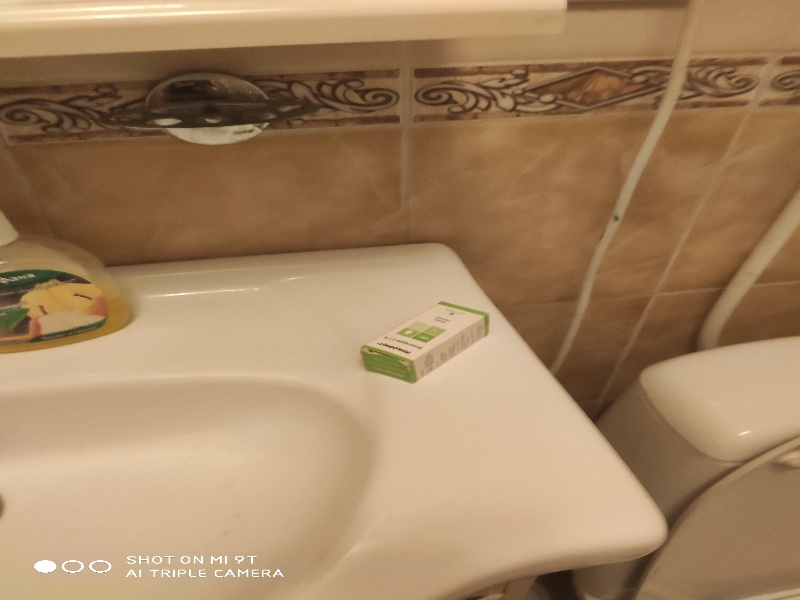ifrin: (351, 295, 505, 398)
